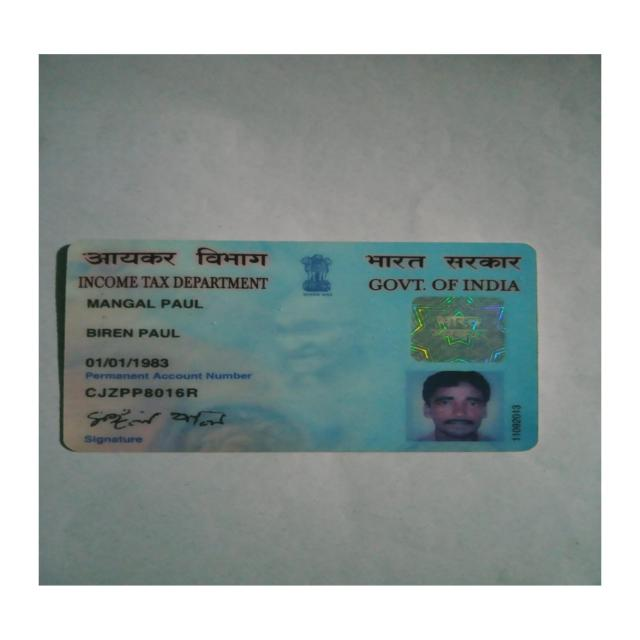pan_card: (65, 244, 534, 451)
